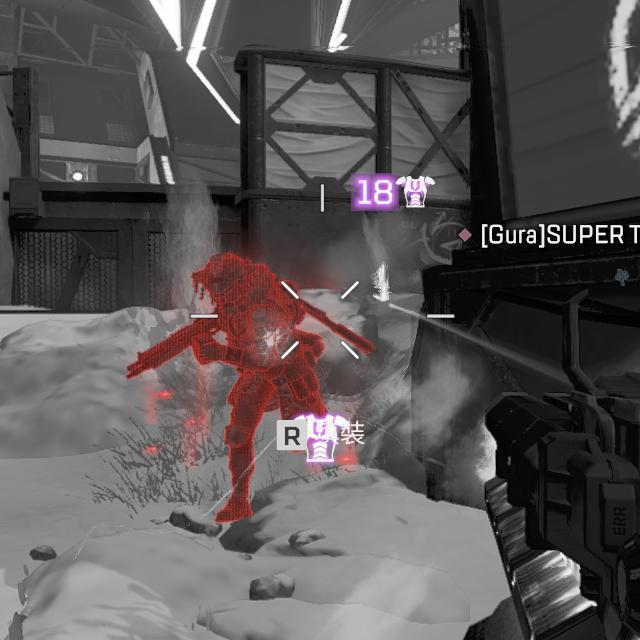avatar: (189, 252, 330, 524)
